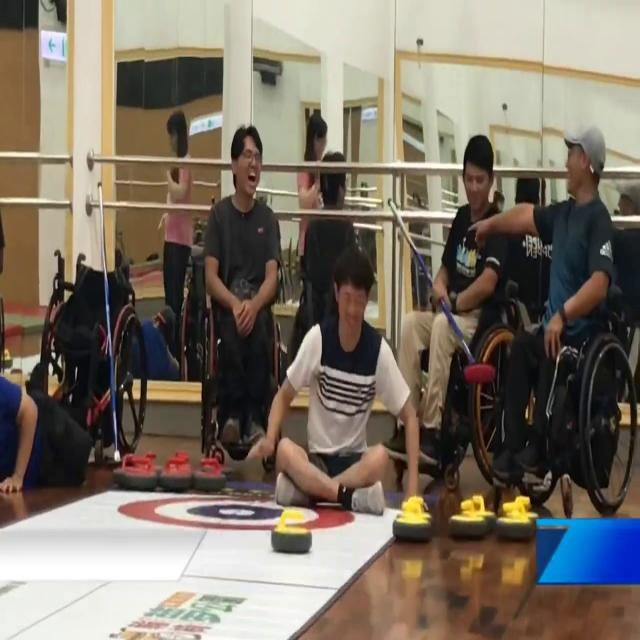wheelchairs: (387, 238, 562, 501), (483, 270, 617, 539), (31, 231, 155, 460), (187, 246, 306, 473)
